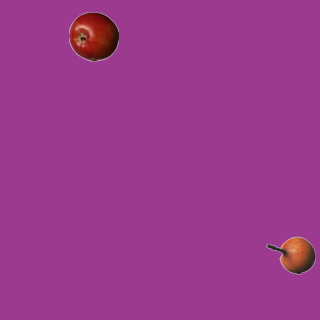Apple Braeburn: (68, 11, 118, 61)
Granadilla: (265, 230, 315, 280)
